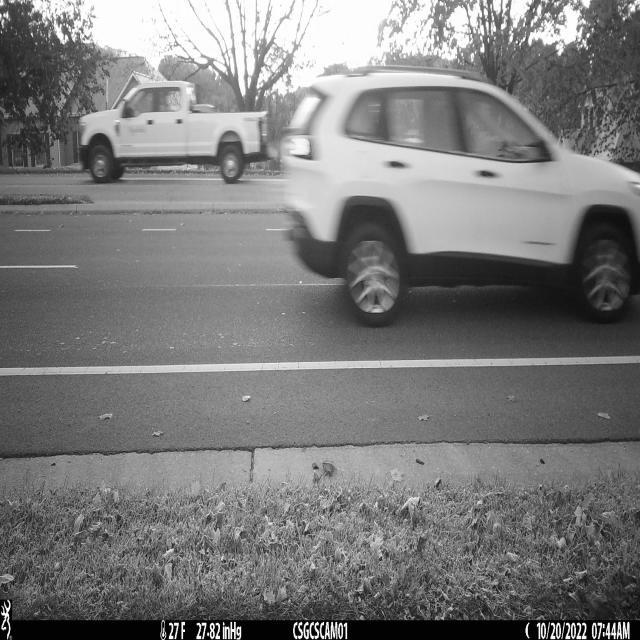Pickup: (74, 81, 277, 184)
SUV: (279, 66, 640, 327)
